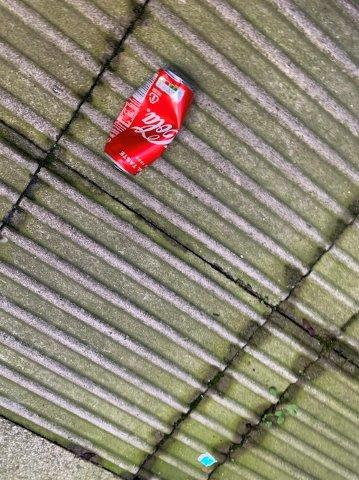kaleng: (105, 70, 193, 174)
